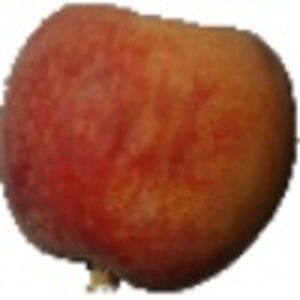pêssego: (1, 2, 300, 300)
